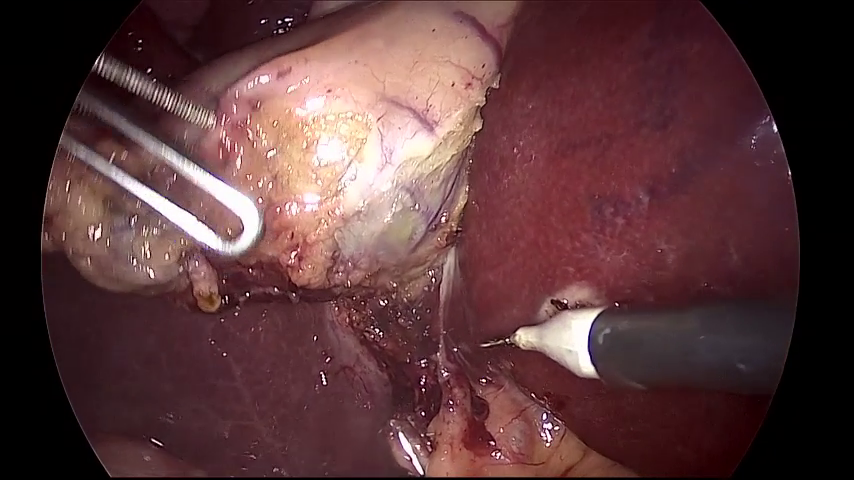grasper: (60, 52, 258, 253)
lhook: (481, 298, 797, 411)
